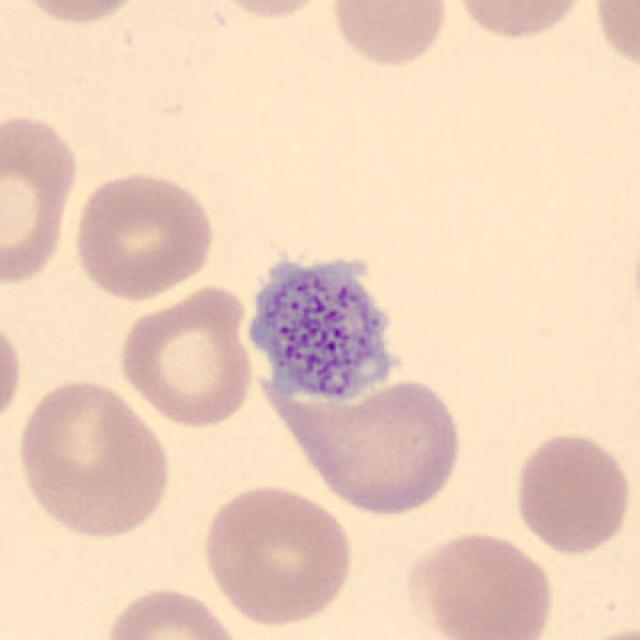Platelets: (231, 230, 423, 414)
RBC: (284, 370, 468, 520), (12, 376, 176, 543), (198, 480, 358, 630), (115, 280, 258, 430), (69, 168, 219, 304), (402, 527, 558, 640), (508, 429, 634, 557), (0, 106, 84, 291), (326, 0, 454, 71), (99, 583, 245, 640), (446, 0, 593, 42), (587, 0, 638, 81), (9, 0, 151, 28), (0, 310, 25, 436), (201, 0, 336, 21), (565, 620, 638, 640)
